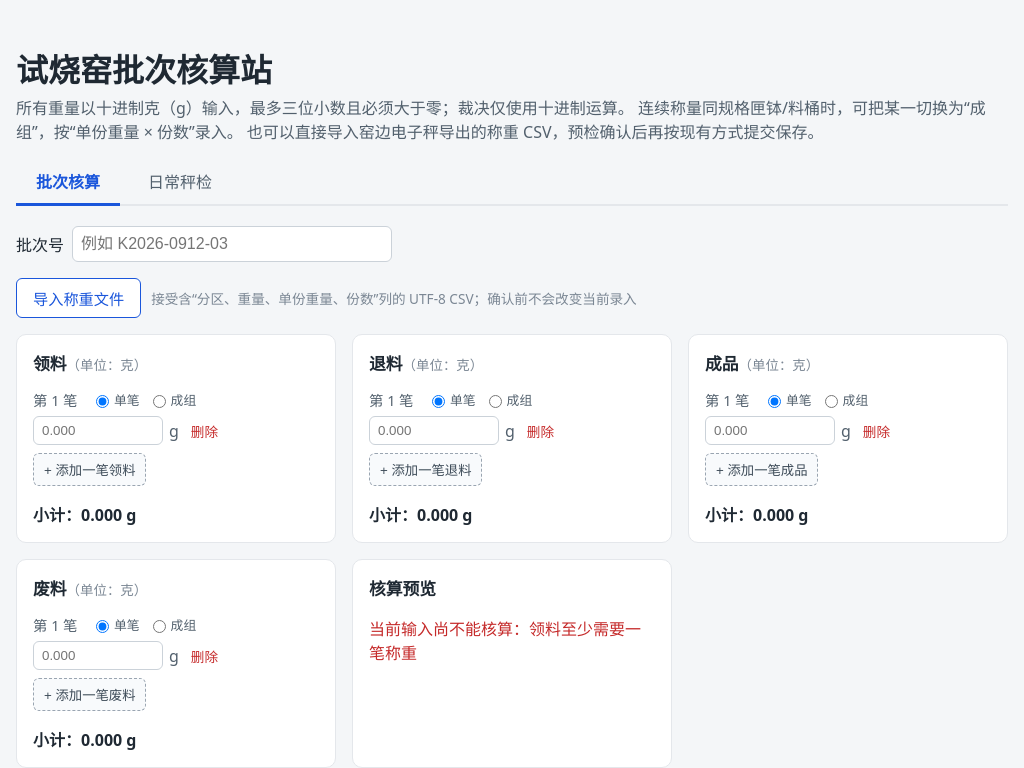
Test: App 核算站 › 领料取存储上限、成品废料各六百亿克：整批校验拒绝产出合计超限且不发请求
Type "OVER-OUTPUT" into the field with test id "batch-no" showing "批次号". click: (232, 244)
box: [72,226,392,262]
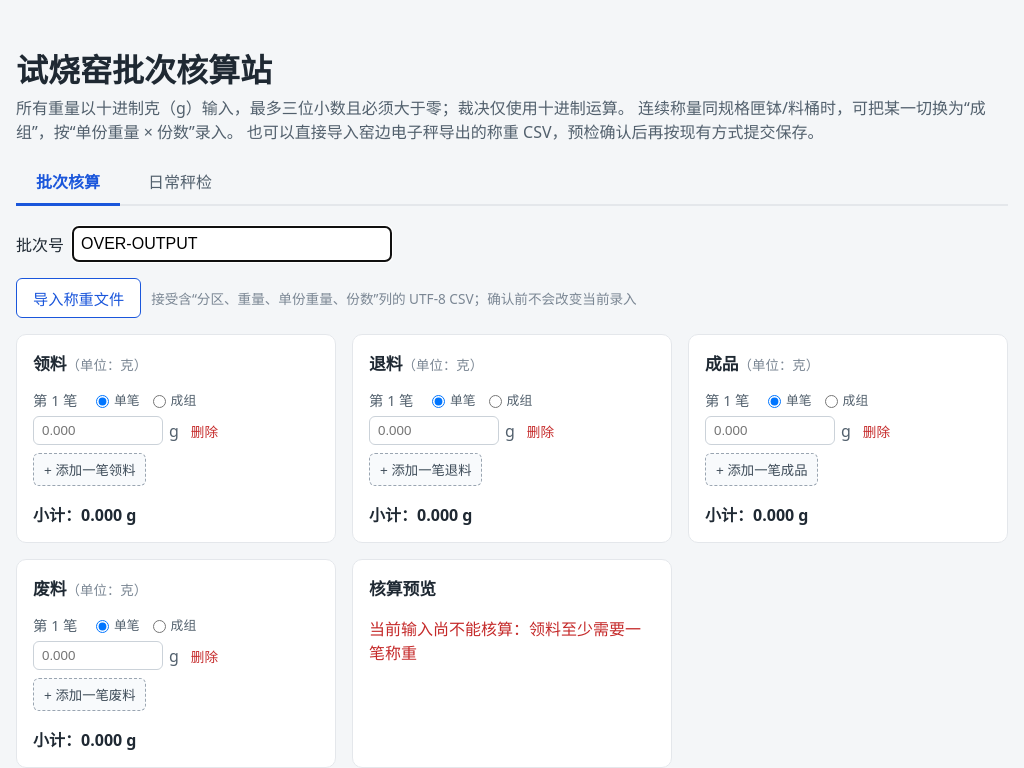
Type "99999999999.999" into the field named "领料第1笔重量（克）". click: (98, 431)
box: [33,416,163,445]
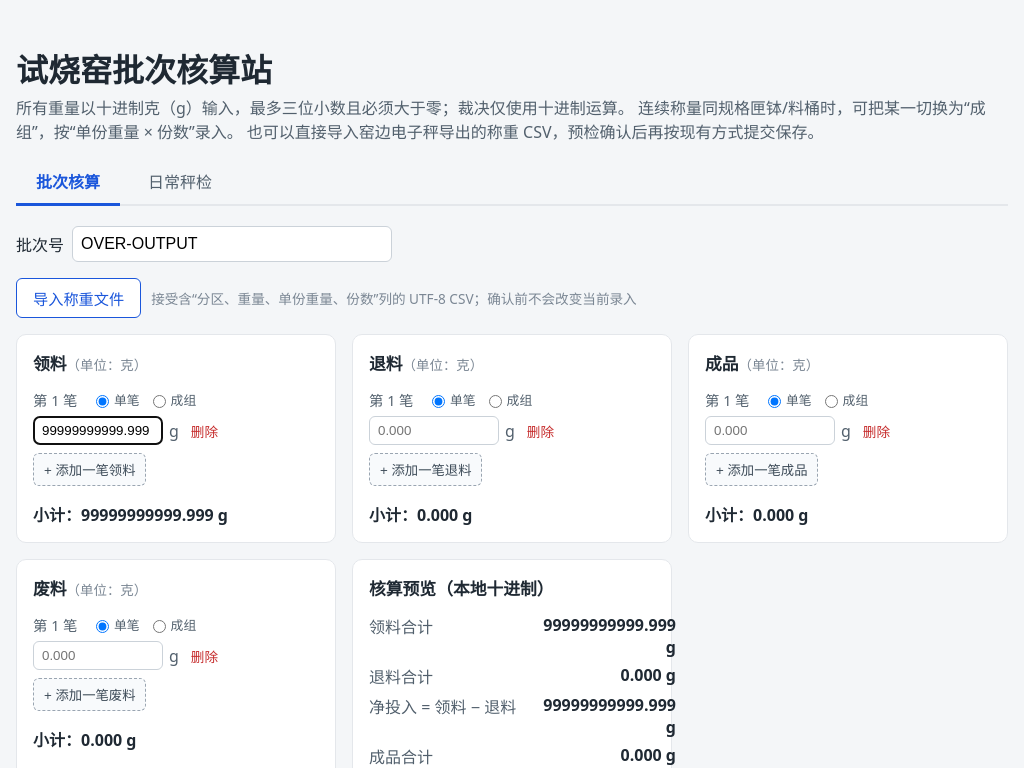
Type "60000000000" into the field named "成品第1笔重量（克）". click: (770, 431)
box: [705,416,835,445]
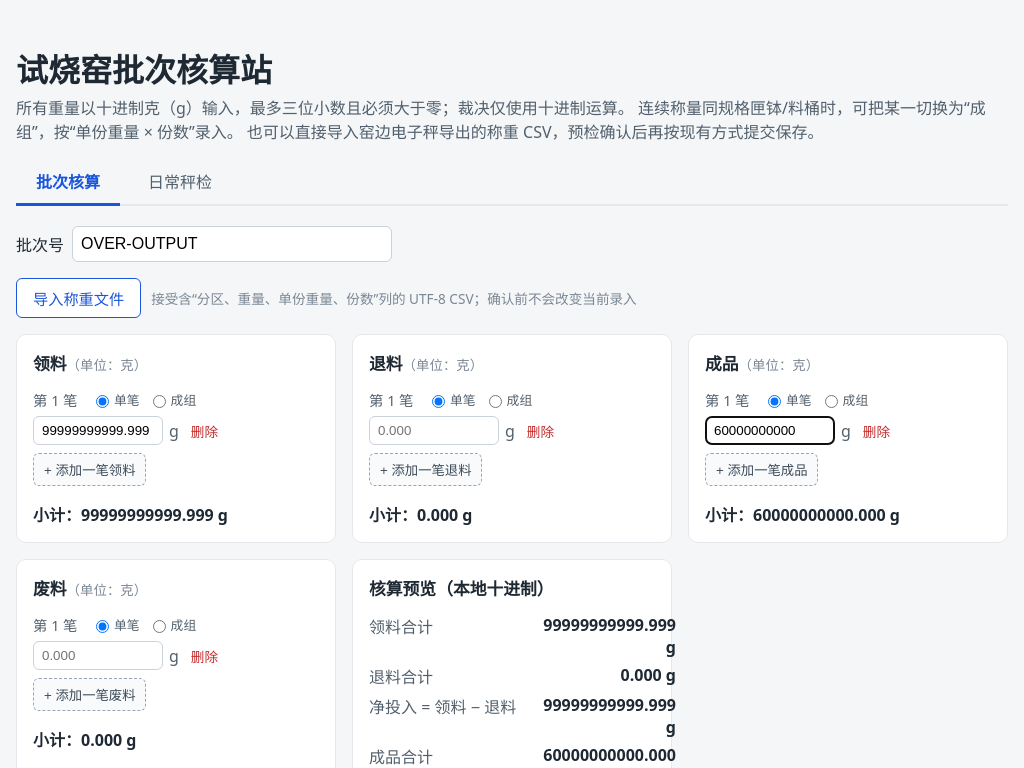
Type "60000000000" into the field named "废料第1笔重量（克）". click: (98, 656)
box: [33,641,163,670]
(page scrolled)
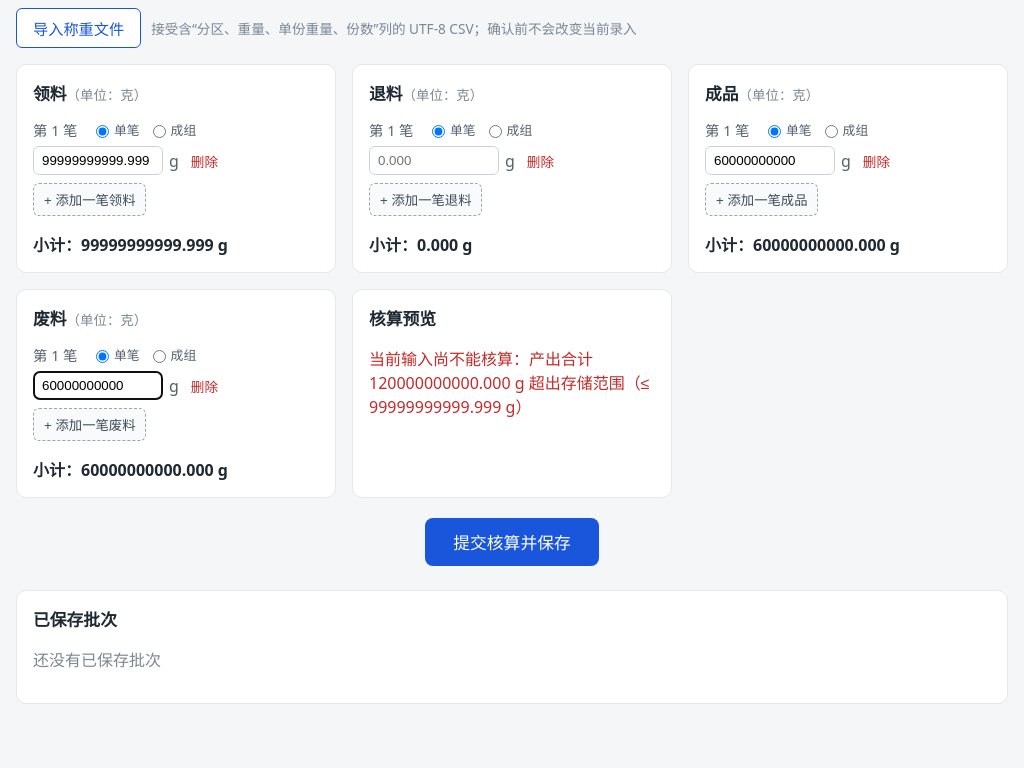
Now the text "当前输入尚不能核算" shows "产出合计", box [369,348,650,418]
Click the button with test id "submit". click: (512, 542)
box: [425,518,599,566]
(page scrolled)
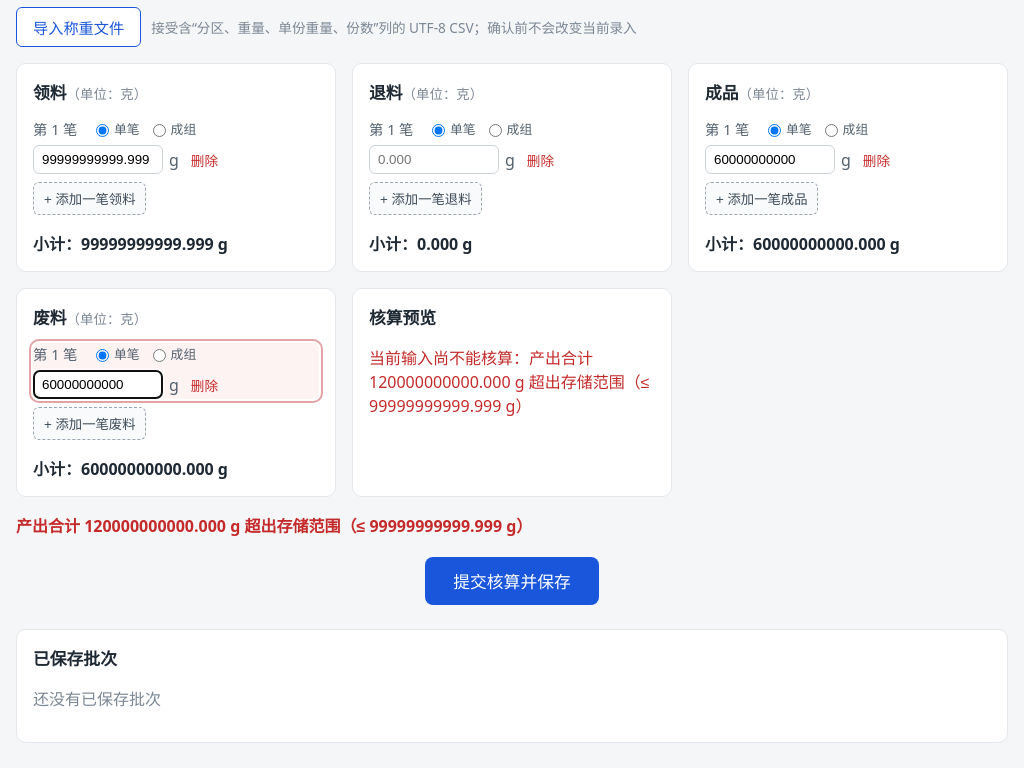
Now the message with test id "form-error" reads "产出合计 120000000000.000 g 超出存储范围（≤ 99999999999.999 g）", box [16,515,532,537]
